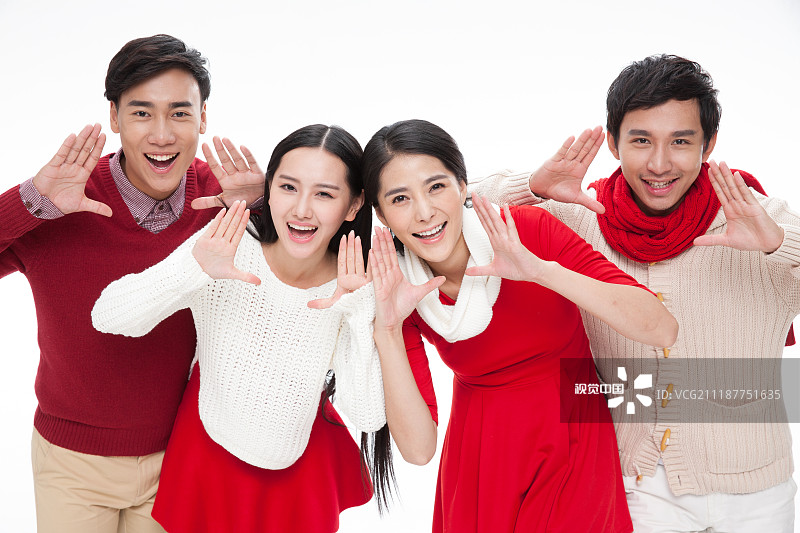no-phone: (355, 219, 452, 345), (23, 108, 126, 225), (681, 157, 785, 260), (534, 114, 617, 224), (189, 197, 274, 290), (463, 189, 540, 290), (181, 130, 268, 215), (303, 226, 377, 323)
